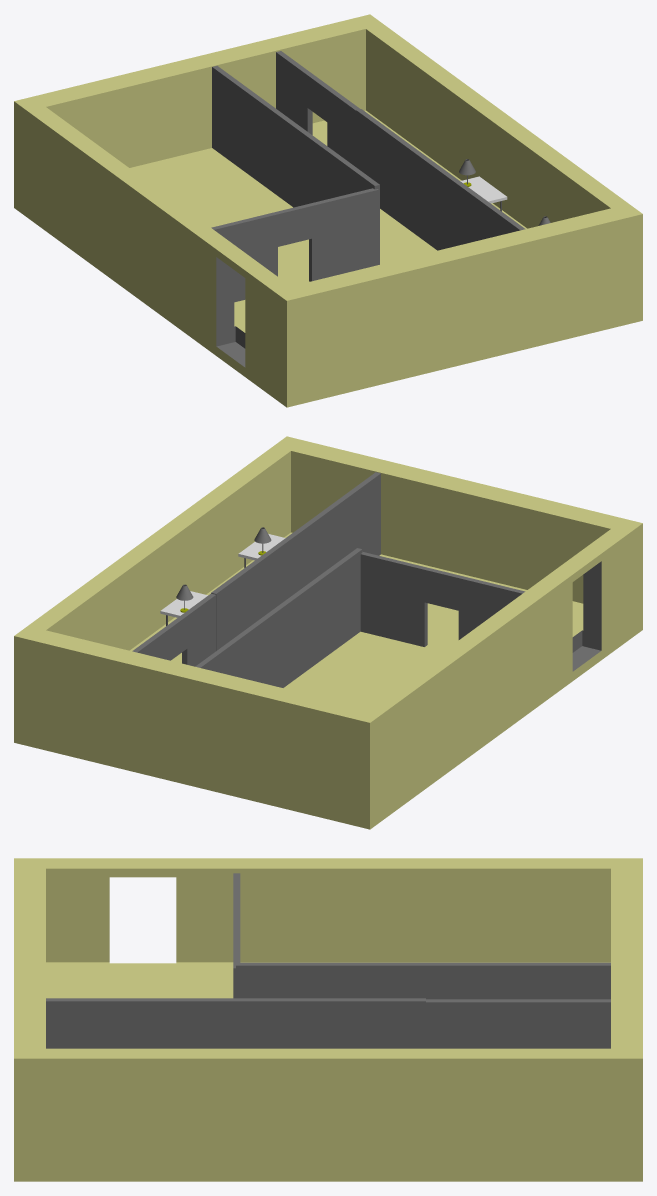
The model's file is piso1.fbx.
3 renders of one model, top to bottom at view 1: azimuth 30°, elevation 25°; view 2: azimuth 150°, elevation 25°; view 3: azimuth 270°, elevation 25°, orthographic. The views are drawn at different scales.
Visible parts, largest first — view 1: polySurface42, polySurface40, polySurface41, polySurface29, polySurface28, polySurface33; view 2: polySurface42, polySurface41, polySurface40, polySurface29, polySurface28; view 3: polySurface42, polySurface41, polySurface40, polySurface28, polySurface29.
Boxes of the visible parts, box(x1,y1,x2,y2) form: polySurface42: box(14, 14, 642, 407); polySurface40: box(212, 65, 379, 264); polySurface41: box(356, 109, 525, 250); polySurface29: box(211, 188, 378, 302); polySurface28: box(276, 51, 359, 166); polySurface33: box(460, 176, 507, 203); polySurface42: box(14, 436, 642, 829); polySurface41: box(211, 472, 380, 650); polySurface40: box(195, 548, 362, 687); polySurface29: box(360, 551, 525, 646); polySurface28: box(132, 593, 215, 666); polySurface42: box(14, 858, 642, 1181); polySurface41: box(46, 998, 425, 1048); polySurface40: box(236, 962, 610, 1048); polySurface28: box(403, 999, 610, 1048); polySurface29: box(233, 873, 240, 998).
Bounding box in the file's own units: 4.32 × 1.24 × 5.73.
